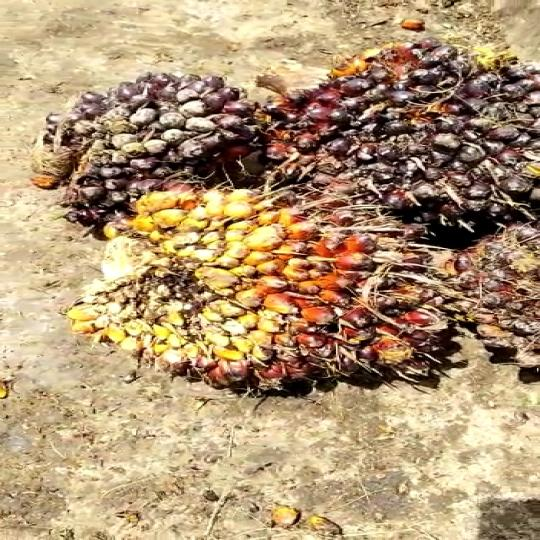kurang masak: (288, 42, 540, 234), (50, 66, 234, 215)
